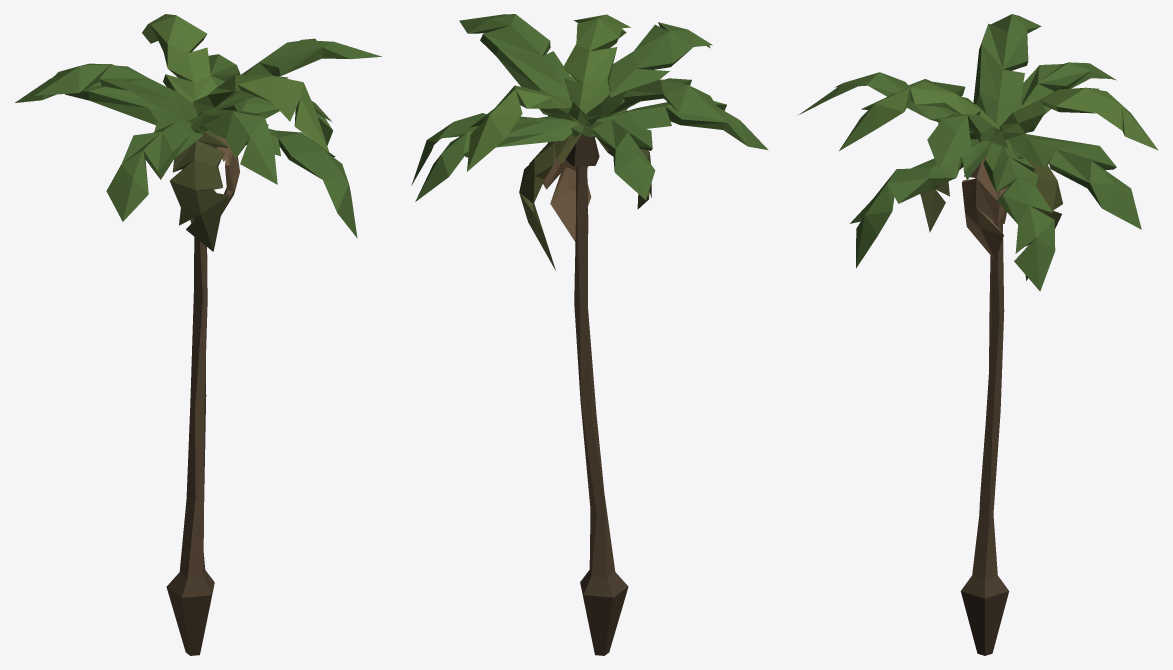
Rendered from SM_Env_PalmTree_01.glb.
The picture shows the model from 3 angles, left to right: view 1: azimuth 30°, elevation 25°; view 2: azimuth 150°, elevation 25°; view 3: azimuth 270°, elevation 25°; orthographic projection. The views are drawn at different scales.
Visible parts, largest first — view 1: SM_Env_PalmTree_01; view 2: SM_Env_PalmTree_01; view 3: SM_Env_PalmTree_01.
Part boxes in pixels (x1=…): SM_Env_PalmTree_01: x1=15, y1=14, x2=381, y2=655; SM_Env_PalmTree_01: x1=411, y1=14, x2=768, y2=655; SM_Env_PalmTree_01: x1=799, y1=14, x2=1158, y2=655.
Bounding box in the file's own units: 0.0498 × 0.0932 × 0.0517.
